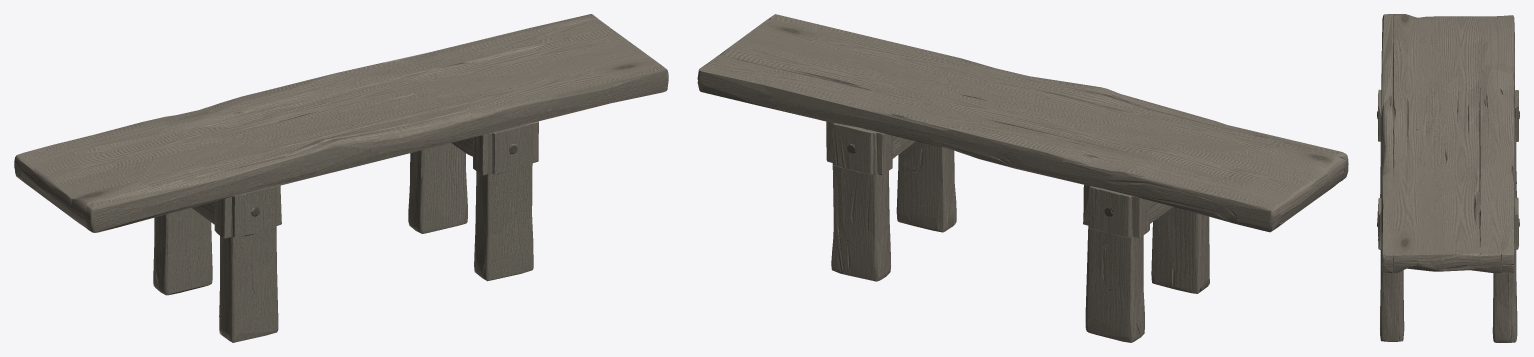
The model's file is wooden-bench.glb.
3 views of the same model, side by side, from view 1: azimuth 30°, elevation 25°; view 2: azimuth 150°, elevation 25°; view 3: azimuth 270°, elevation 25° (orthographic). The views are drawn at different scales.
Parts seen in each view (by area): view 1: wooden-bench; view 2: wooden-bench; view 3: wooden-bench.
Part boxes in pixels (x1,y1,x2,y2): wooden-bench: [14, 14, 668, 342]; wooden-bench: [697, 14, 1348, 342]; wooden-bench: [1377, 14, 1519, 342].
Size of the model in its own units: 1.6 by 0.4649 by 0.3986.
Materials: 1 (1 with a texture image).
